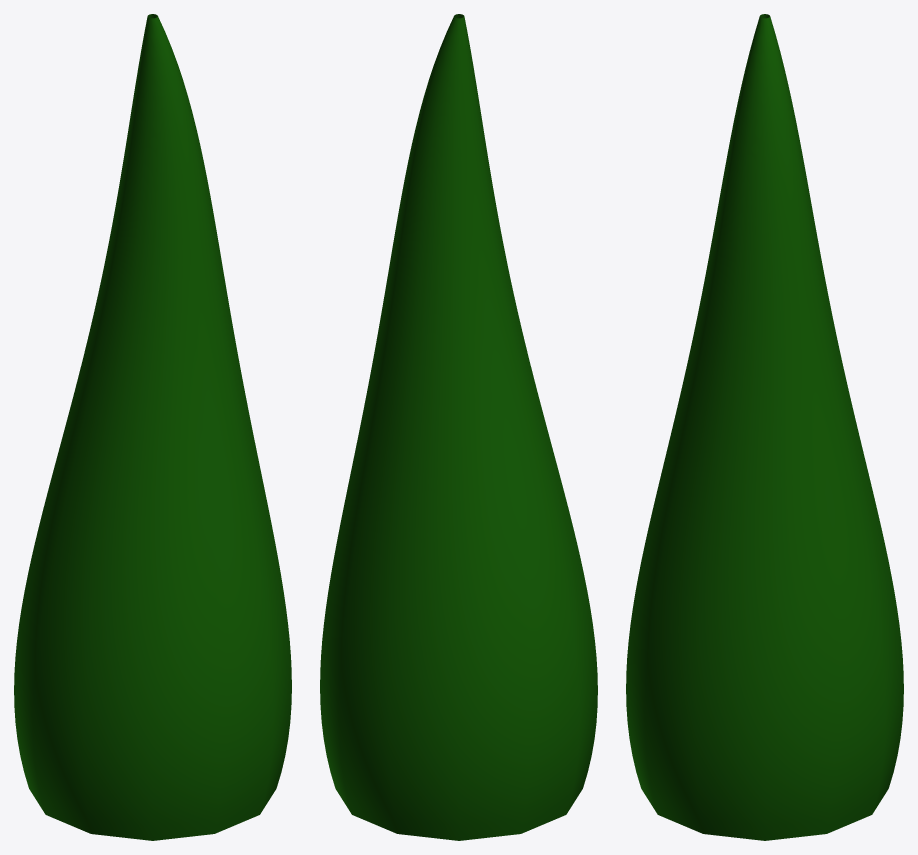
The model's file is grass.glb.
The picture shows the model from 3 angles, left to right: view 1: azimuth 30°, elevation 25°; view 2: azimuth 150°, elevation 25°; view 3: azimuth 270°, elevation 25°; orthographic projection.
Parts seen in each view (by area): view 1: NurbsPath.001; view 2: NurbsPath.001; view 3: NurbsPath.001.
Boxes of the visible parts, x1,y1,x2,y2 form: NurbsPath.001: [14, 14, 291, 840]; NurbsPath.001: [320, 14, 597, 840]; NurbsPath.001: [626, 14, 903, 840].
Size of the model in its own units: 0.0594 by 0.1823 by 0.0594.
